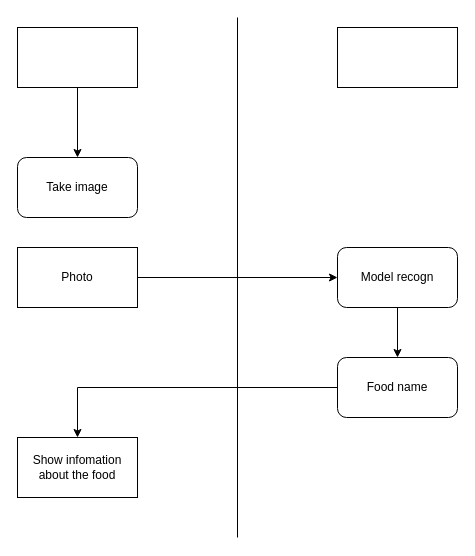
Image size: 475x556. Some labels were removed from this diagram. Here are the shapes that lost their labels. From the top down, the centre of each, then its label:
At pixel 77 57: "UI".
At pixel 397 57: "Backend".
